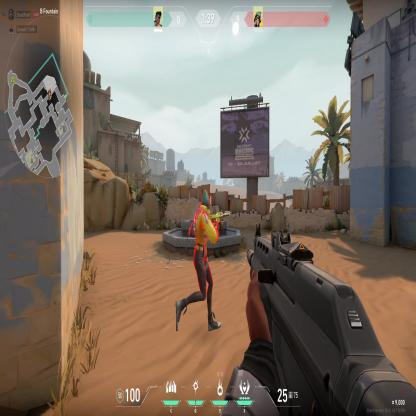enemy: (174, 187, 224, 338)
